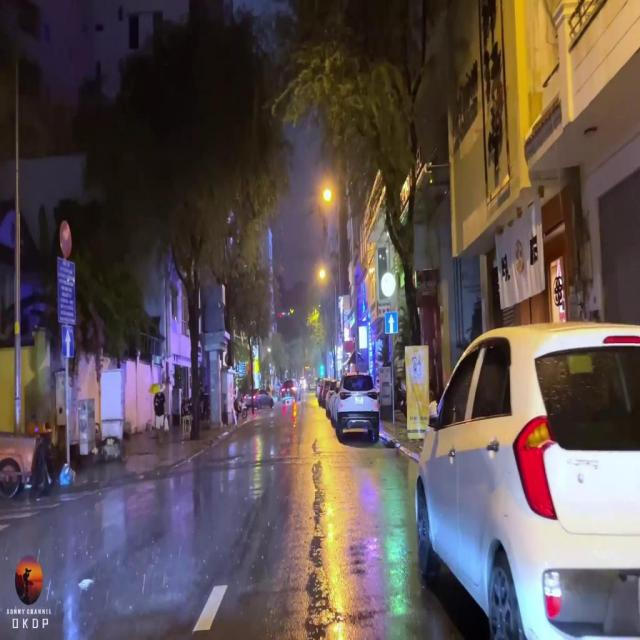cam_dung_xe_va_do_xe: (59, 220, 72, 258)
duong_mot_chieu: (62, 326, 73, 358), (384, 312, 398, 334)
